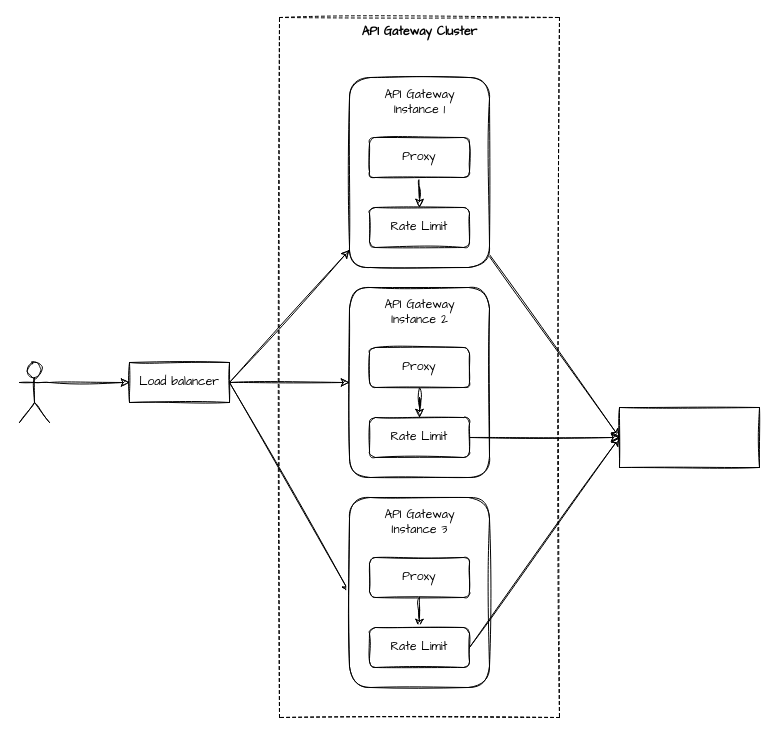
This 777x735 diagram has some shape labels left out. Each missing label, with the centre of its shape:
"Actor" belongs at point 34,392.
"Cache Cluster" belongs at point 689,437.
